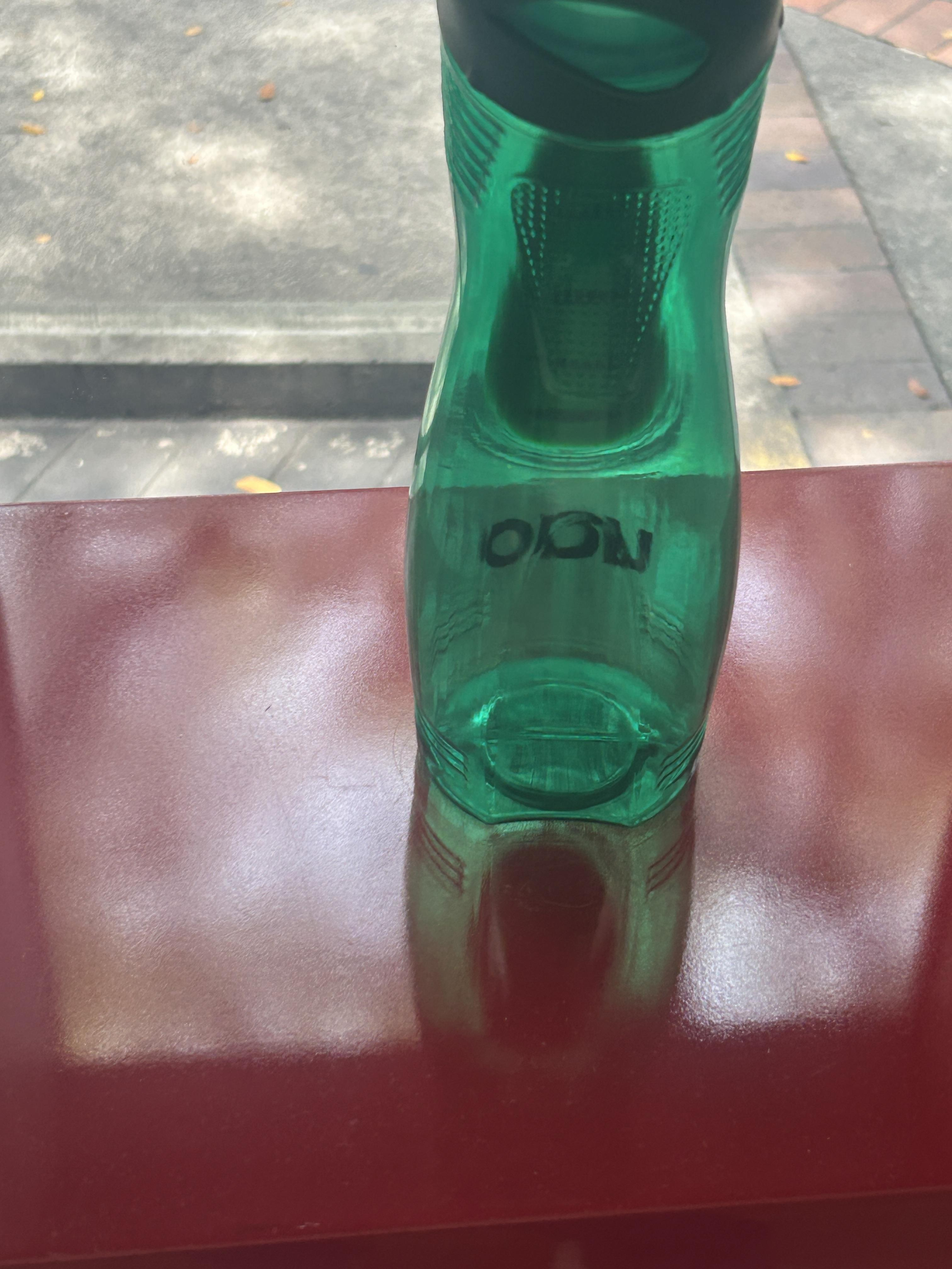termo: (407, 0, 782, 823)
